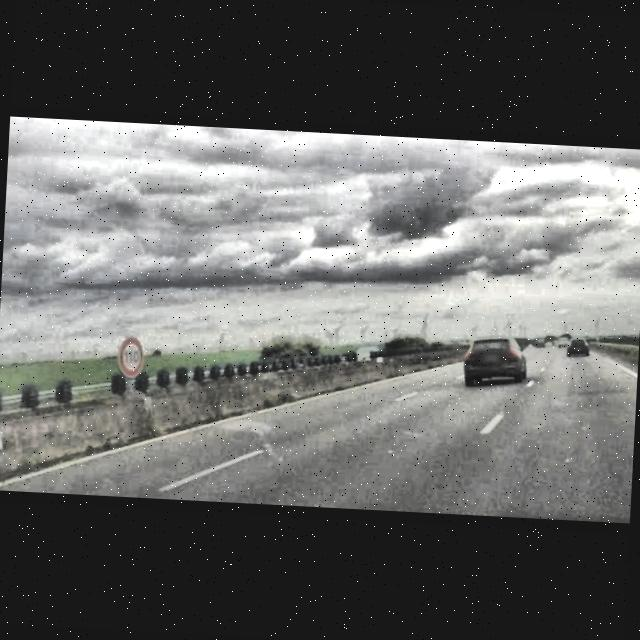speed_110: (120, 336, 144, 376)
